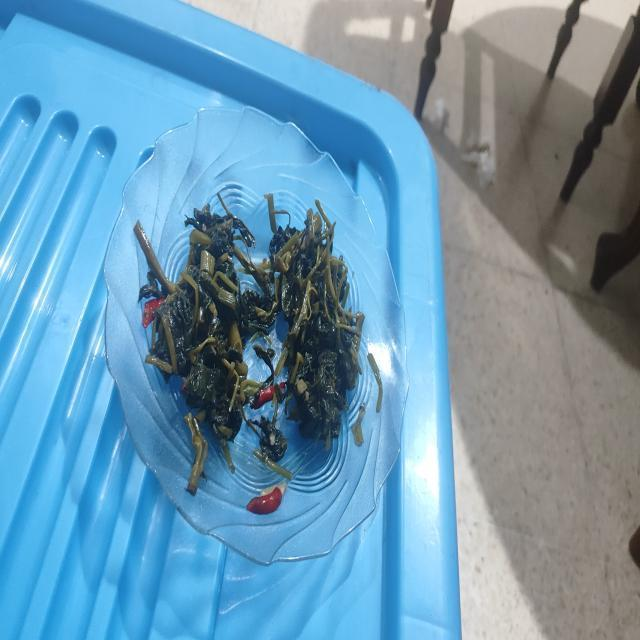tumis_kangkung: (134, 204, 262, 443), (276, 201, 364, 447)
